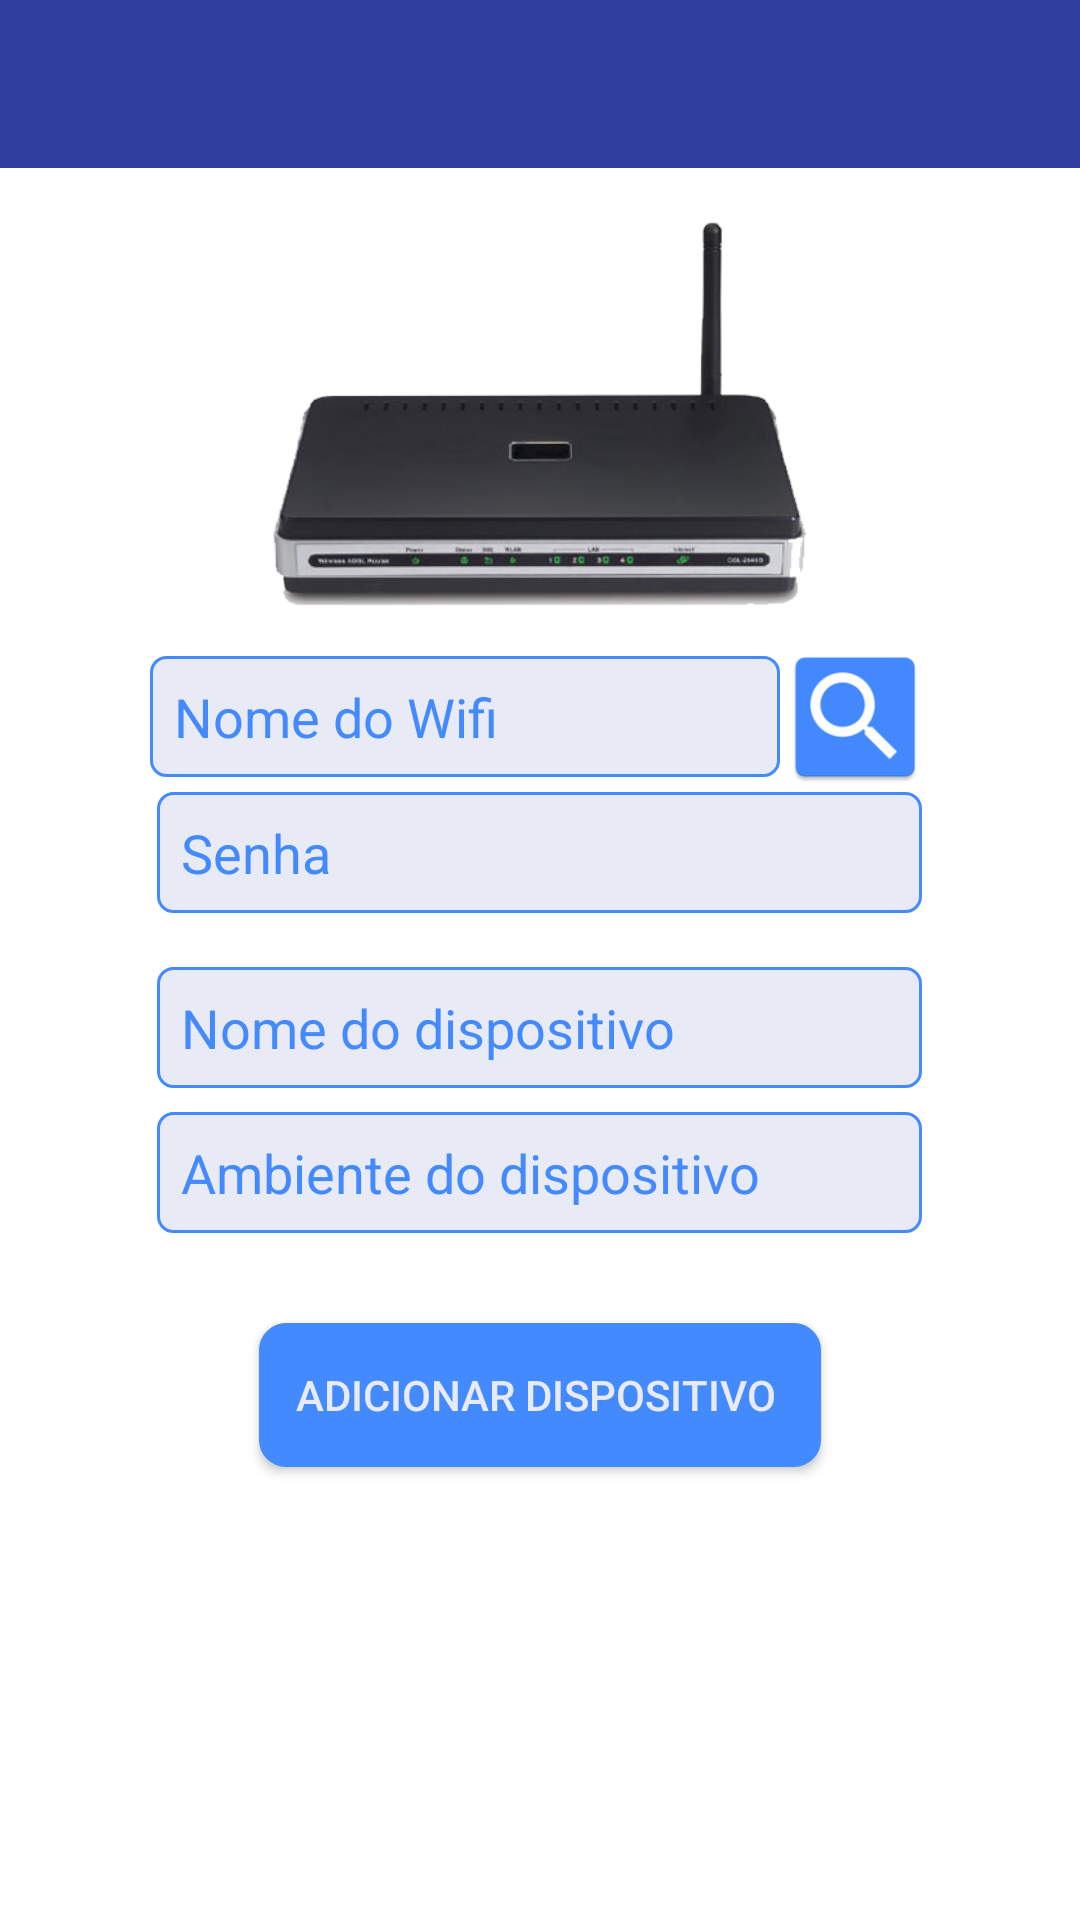

Named icons in this screenshot (1080 x 1920) and their bounding boxes, (x1, y1, x2, y2):
search: (795, 657, 916, 780)
